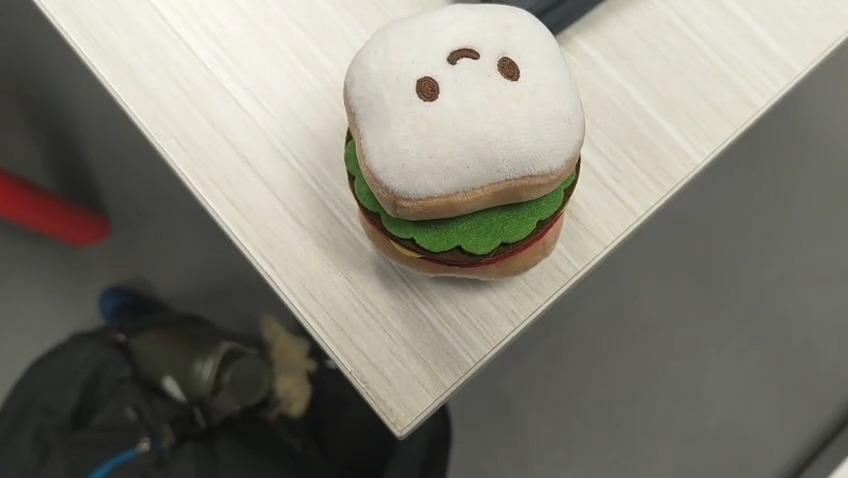objects: (341, 4, 586, 281)
